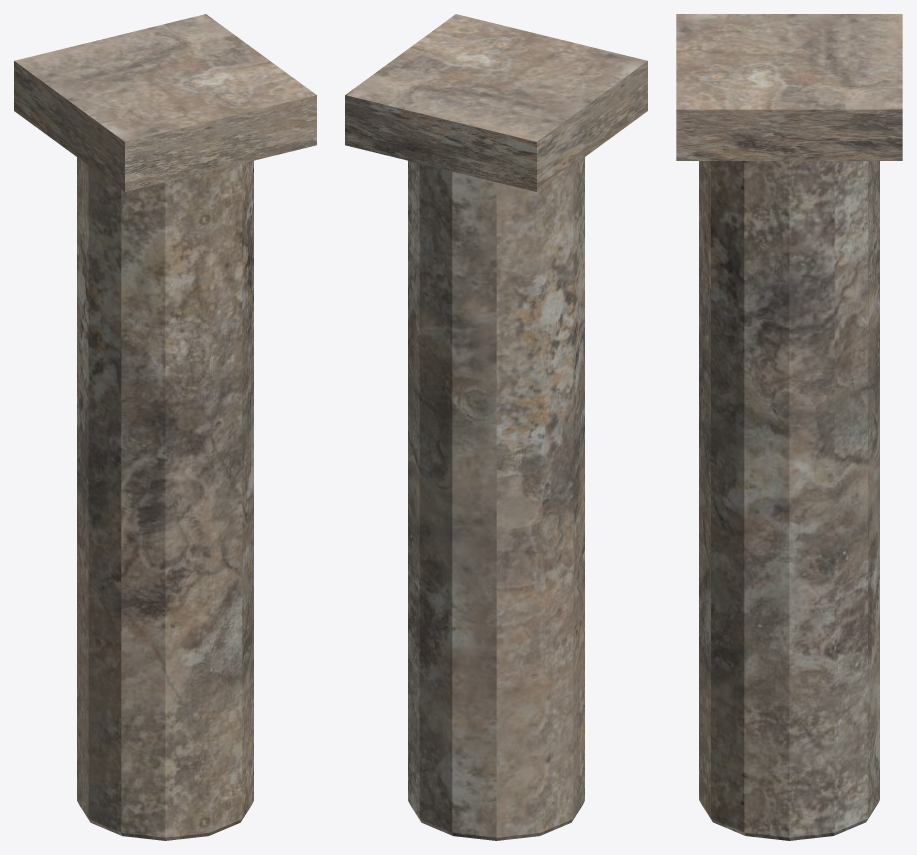
The model's file is pillar.glb.
The picture shows the model from 3 angles, left to right: view 1: azimuth 30°, elevation 25°; view 2: azimuth 150°, elevation 25°; view 3: azimuth 270°, elevation 25°; orthographic projection. The views are drawn at different scales.
Parts seen in each view (by area): view 1: pillar; view 2: pillar; view 3: pillar.
Boxes of the visible parts, x1,y1,x2,y2 form: pillar: (14,14,316,840); pillar: (345,14,647,840); pillar: (676,14,902,840).
Size of the model in its own units: 0.7 by 2.54 by 0.7.
Materials: 1 (1 with a texture image).
